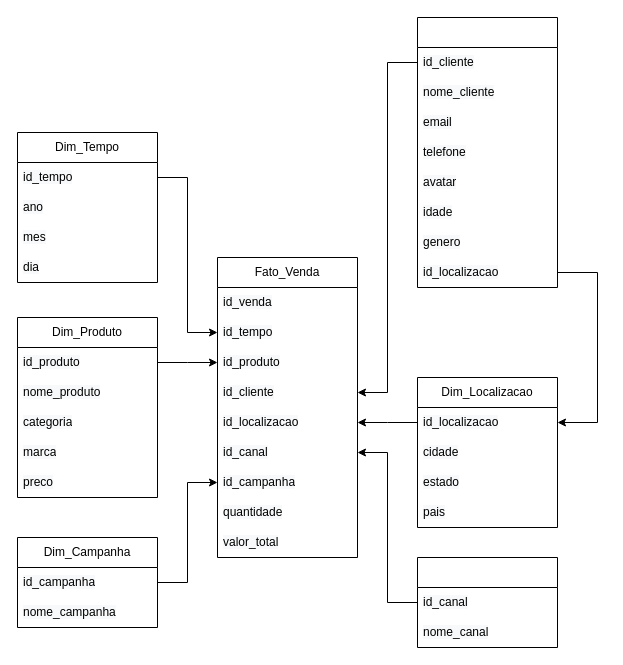
This 623x665 diagram has some shape labels left out. Each missing label, with the box of its shape:
Dim_Canal: (416, 556, 558, 648)
Dim_Cliente: (416, 16, 558, 288)
